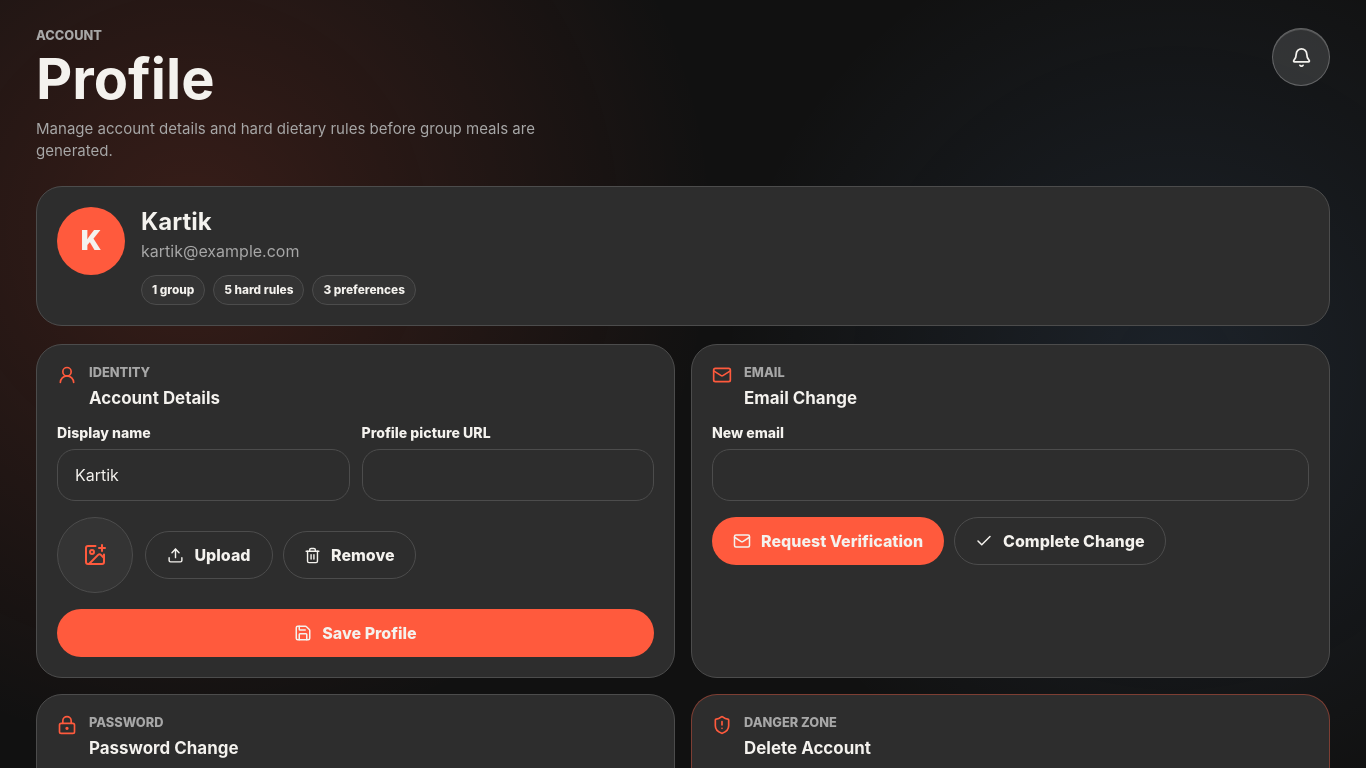
Scenario: ProfilePage US5 controls › requests email-change verification from account settings
The width and height of the screenshot is (1366, 768).
Type "avery@example.com" into the field labelled "New email" at coordinates (1010, 475), box [712, 449, 1309, 501]
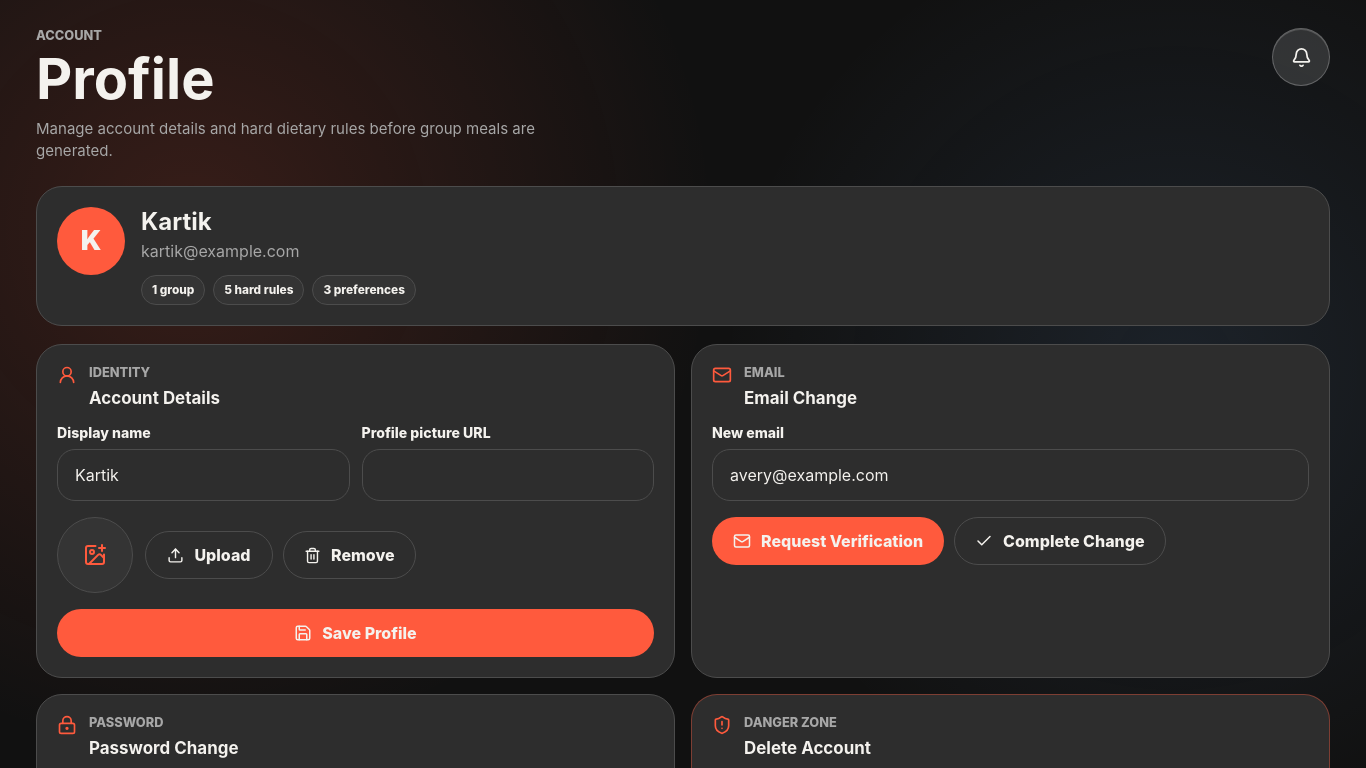
Click the button "Request Verification" at coordinates (828, 541), box [712, 517, 944, 565]
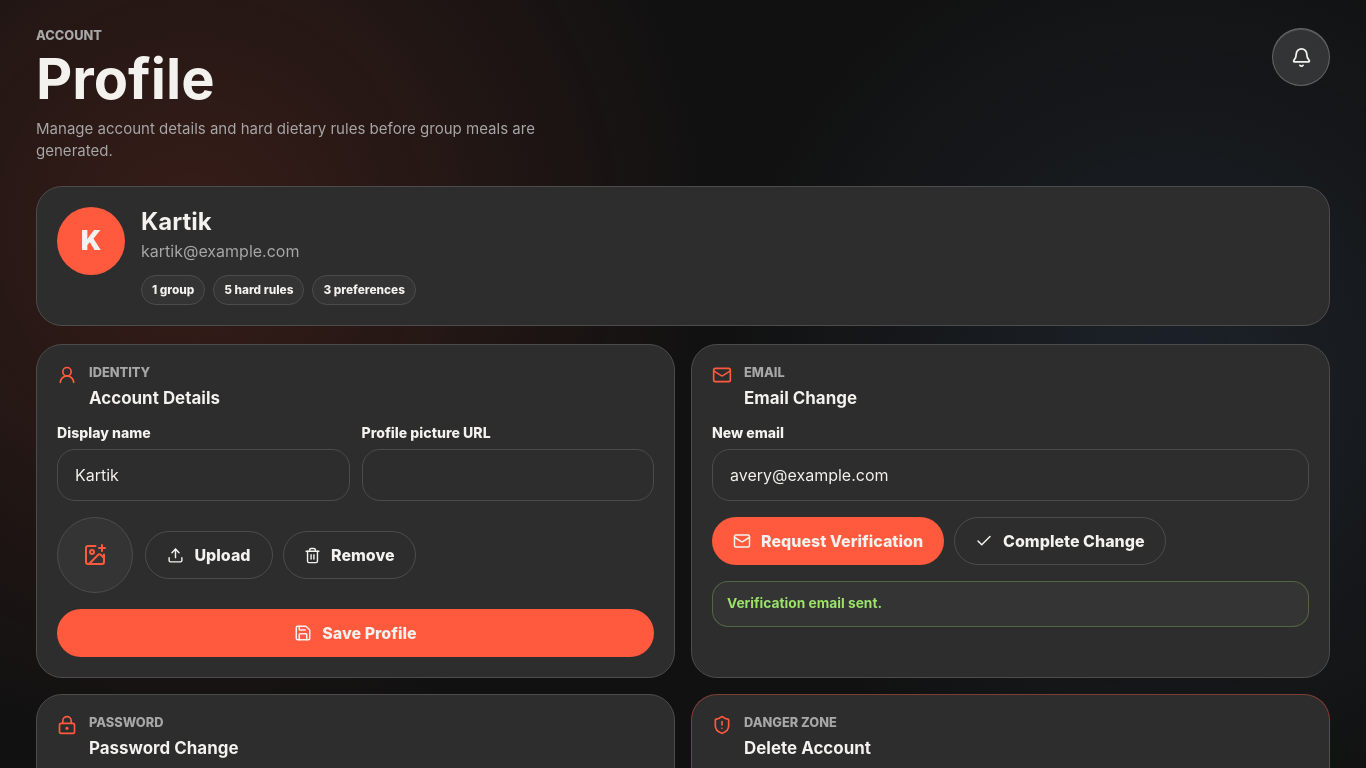
Check: the text "Verification email sent." is shown, box [712, 581, 1309, 627]
